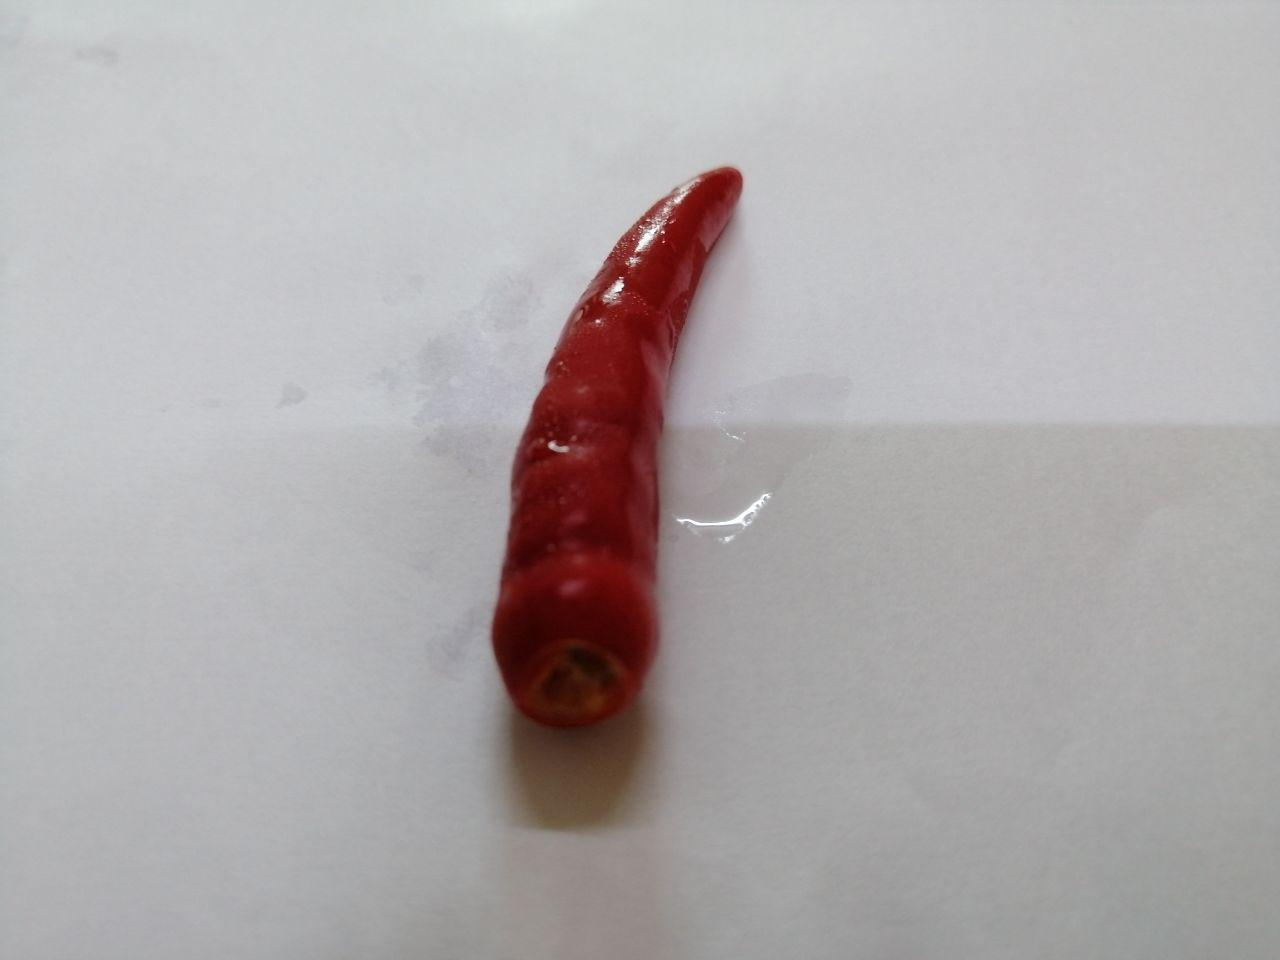lada merah: (475, 161, 759, 746)
